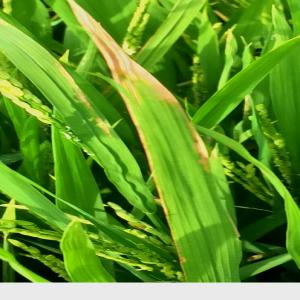2 BacterialBlight: (113, 21, 214, 242)
